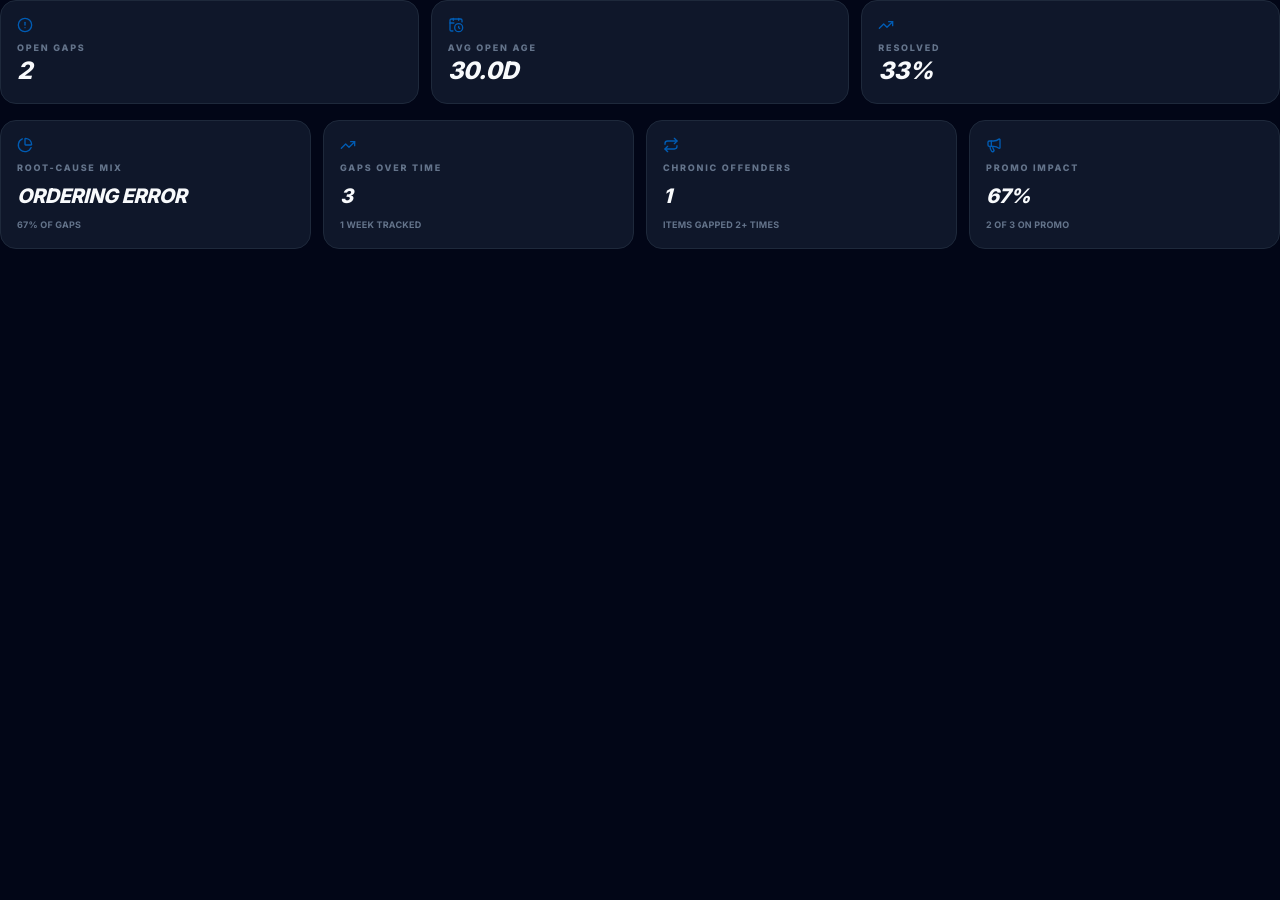
Test: InsightsAnalytics › shows promo overlap detail in the promo modal
Click the button "Promo Impact 67% 2 of 3 on promo".
click(1033, 167)  # box [969,120,1279,248]
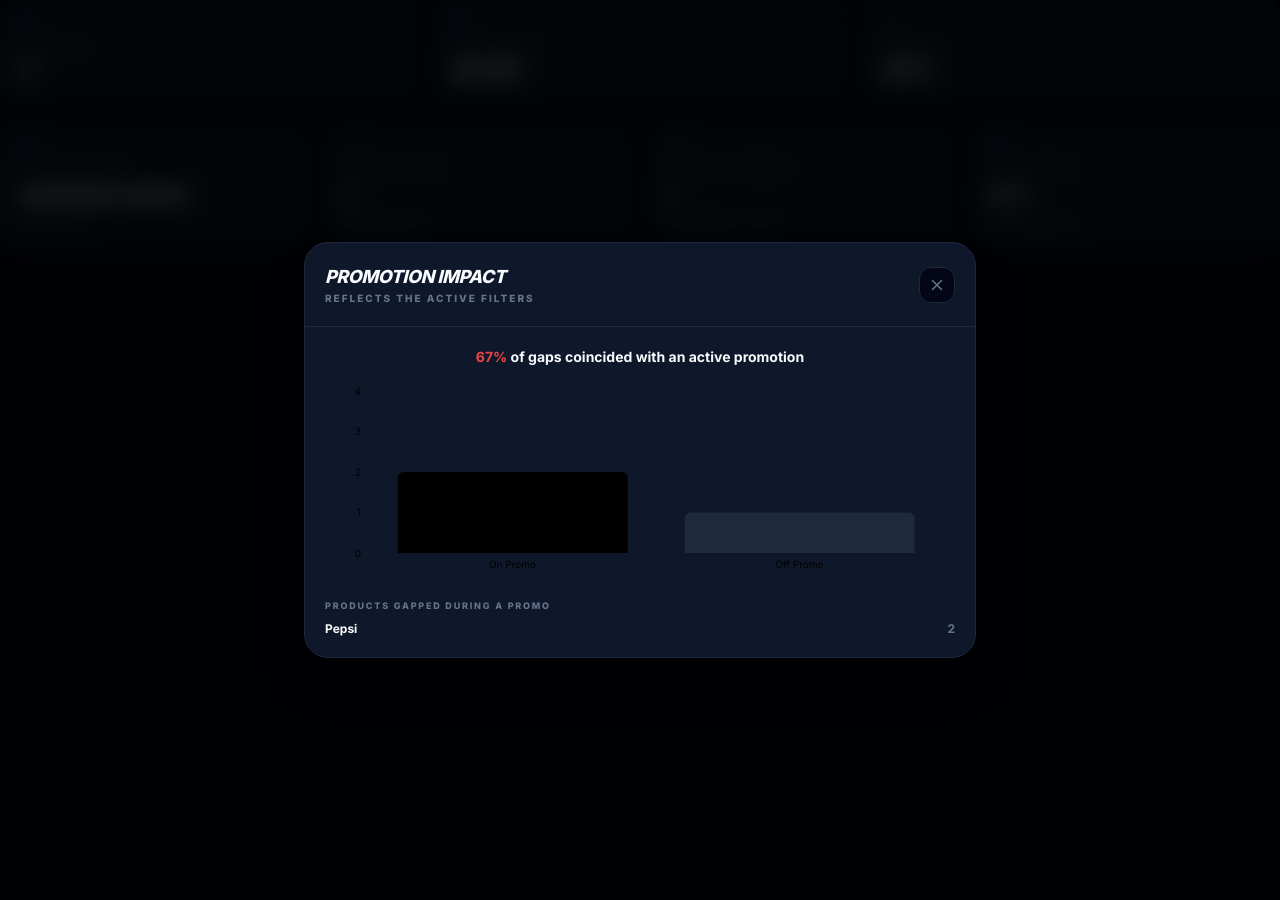
Expected: the text "67% of gaps coincided with an active promotion" is shown, [476,348,804,365]
